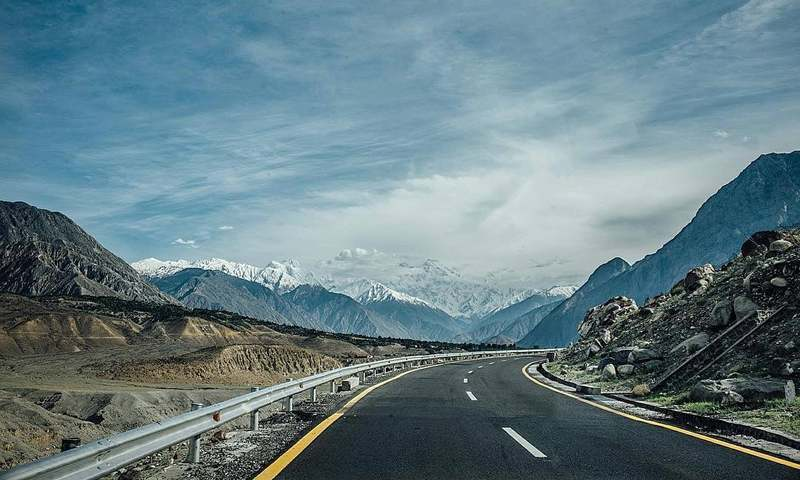rightTrun: (379, 321, 560, 480)
